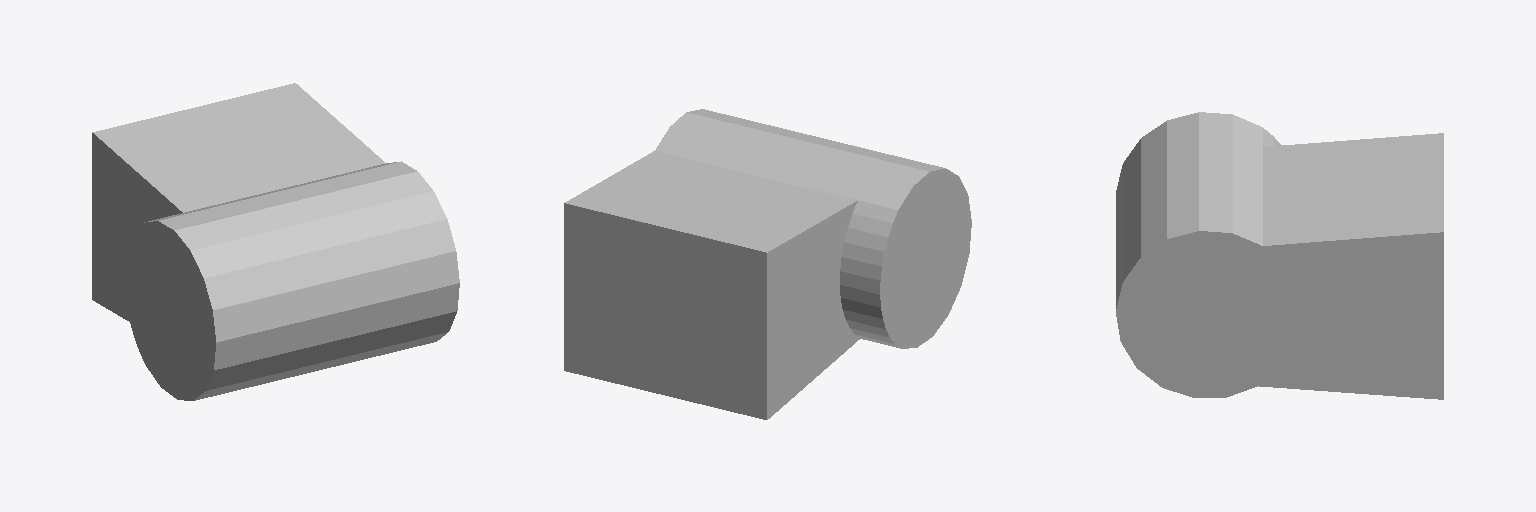
Rendered from original-121.obj.
The picture shows the model from 3 angles: view 1: azimuth 30°, elevation 25°; view 2: azimuth 150°, elevation 25°; view 3: azimuth 270°, elevation 25°; orthographic projection.
Visible parts, largest first — view 1: Group51/mesh114/mesh114-geometry#mesh114-geometry; view 2: Group51/mesh114/mesh114-geometry#mesh114-geometry; view 3: Group51/mesh114/mesh114-geometry#mesh114-geometry.
Boxes of the visible parts, box(x1,y1,x2,y2) form: Group51/mesh114/mesh114-geometry#mesh114-geometry: box(92, 83, 459, 400); Group51/mesh114/mesh114-geometry#mesh114-geometry: box(564, 109, 971, 419); Group51/mesh114/mesh114-geometry#mesh114-geometry: box(1116, 112, 1443, 399).
Bounding box in the file's own units: 0.0702 × 0.0466 × 0.082.